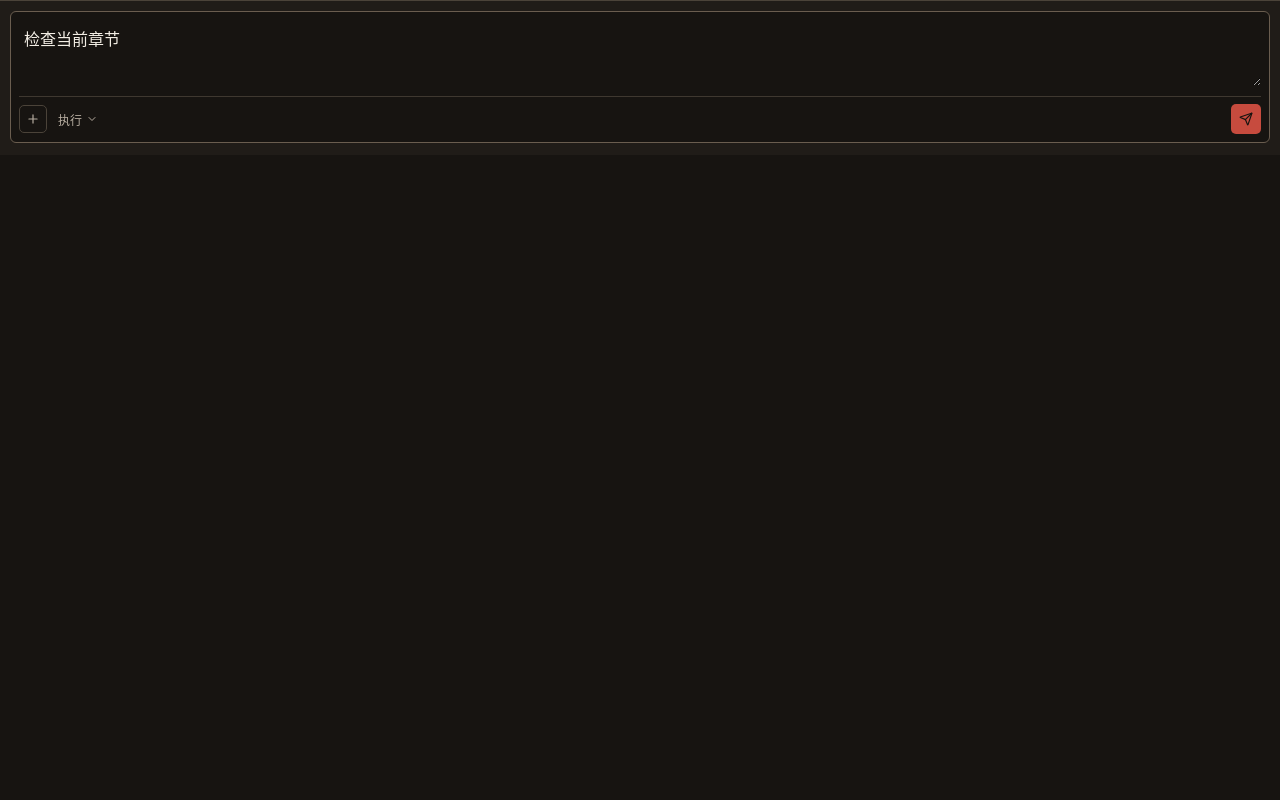
Test case: AgentComposer › opens one Plan/Act group without changing the approval policy
Press Enter in the button with aria-label "执行", box top-left (51, 106), bottom-right (105, 132)
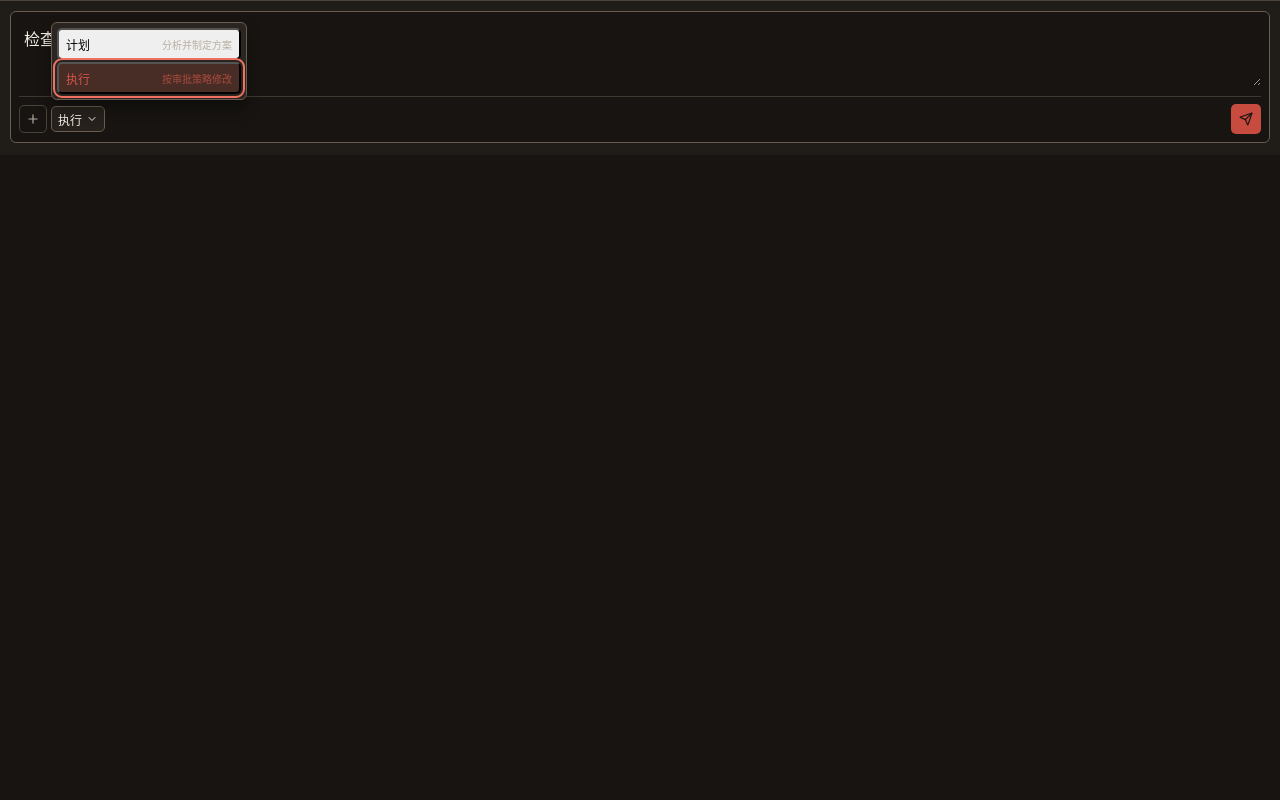
Result: the element named "计划或执行模式" shows "计划" at top-left (57, 28), bottom-right (241, 60)
Result: the element named "计划或执行模式" shows "执行"
Press ArrowRight in the button "执行 按审批策略修改", box top-left (57, 62), bottom-right (241, 94)
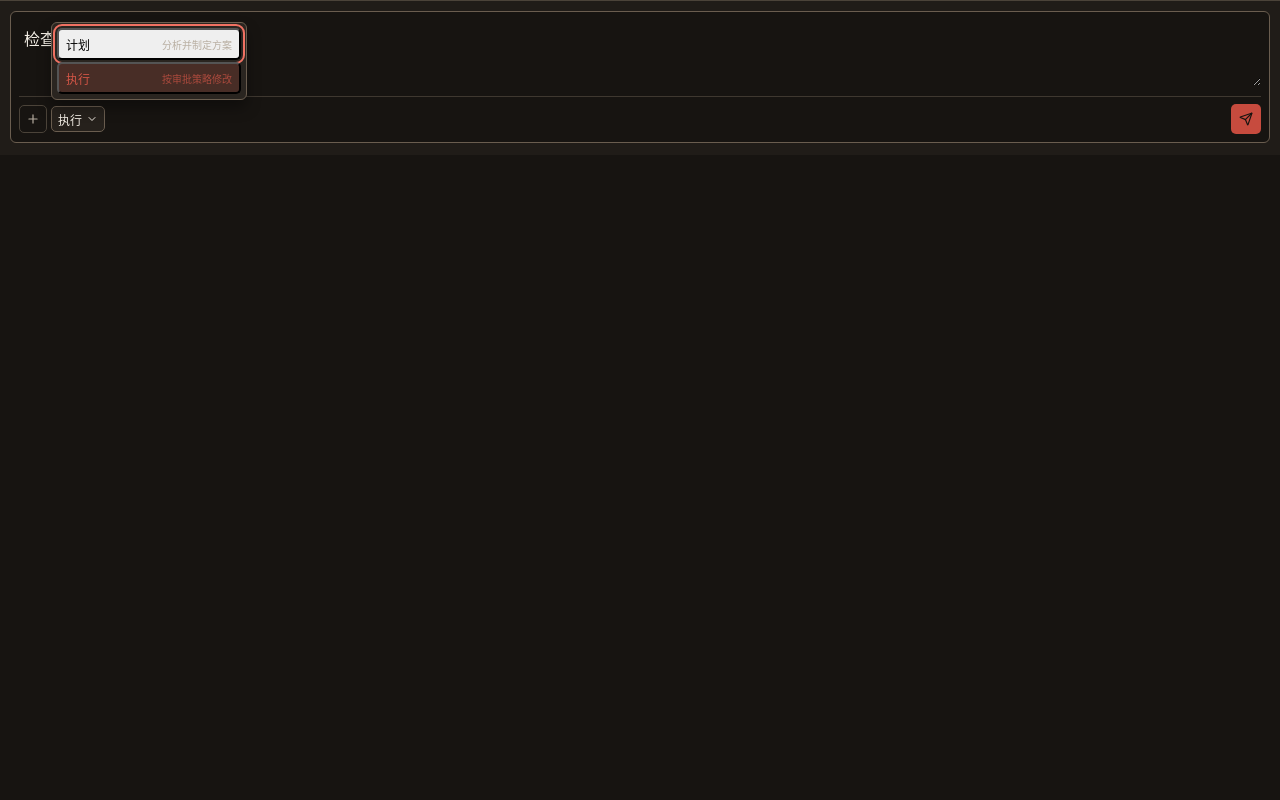
Click the button "计划 分析并制定方案" at (149, 44), box top-left (57, 28), bottom-right (241, 60)
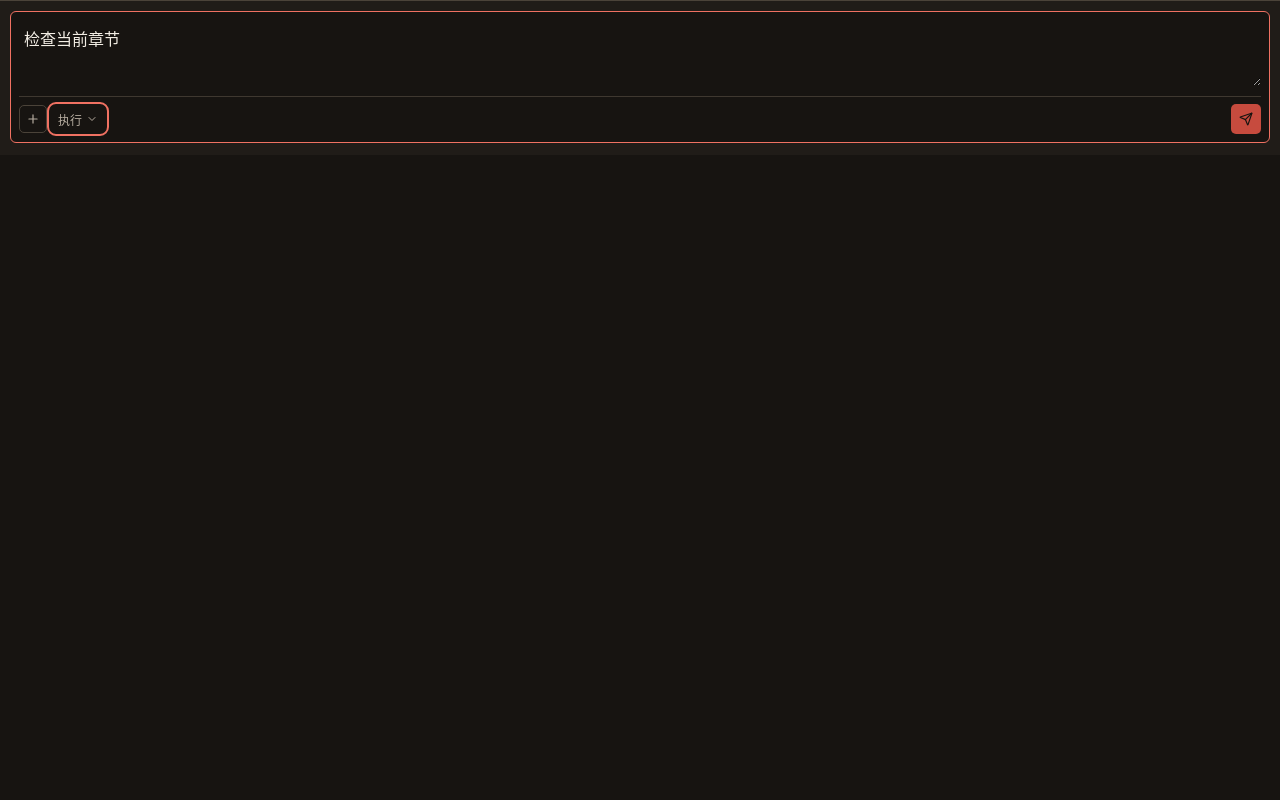
Result: the element named "计划或执行模式" is gone
